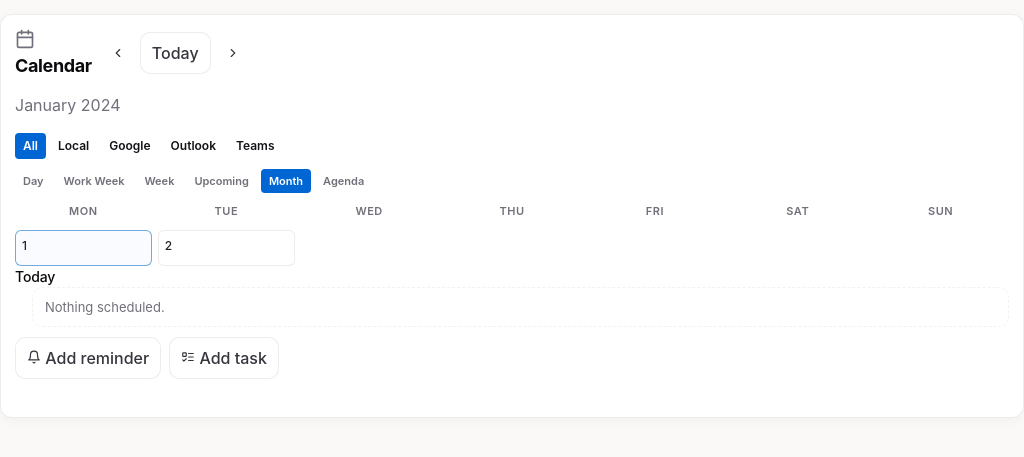
it: CalendarPanel › Day view with no events shows empty state with Add buttons
The image size is (1024, 457).
Click the button "Day" at [33, 181], box [15,169,52,193]
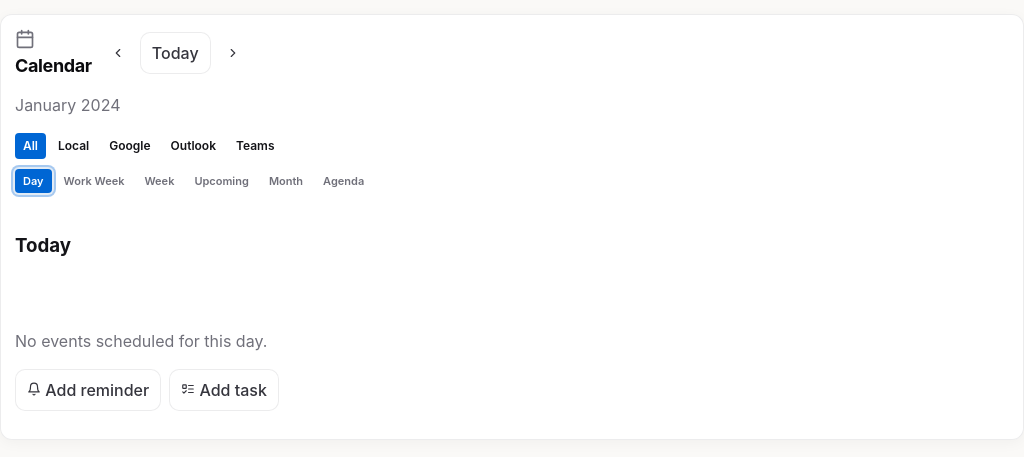
Expected: the button "Add reminder" is shown, [15,369,161,411]
Expected: the text "No events scheduled for this day." is shown, [15,331,267,351]
